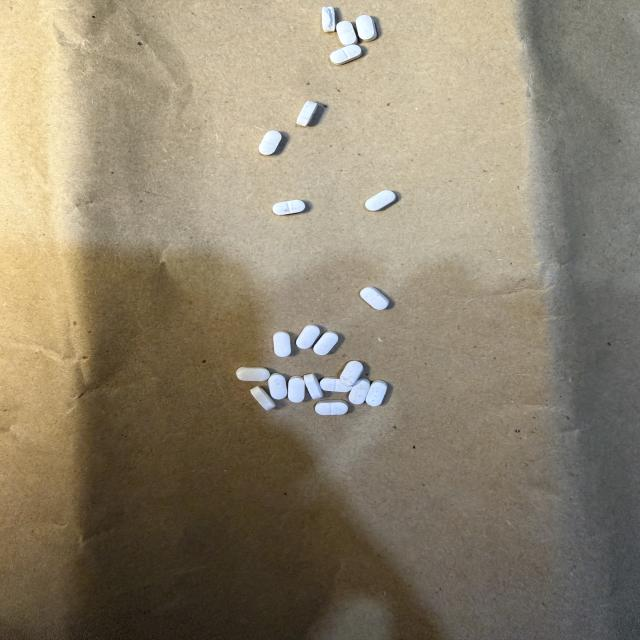pill: (329, 44, 362, 65), (360, 287, 389, 310), (365, 190, 396, 211), (340, 361, 363, 387), (296, 325, 320, 349), (251, 387, 275, 410), (314, 332, 338, 355), (356, 15, 377, 41), (259, 131, 281, 155), (366, 381, 387, 406), (349, 379, 370, 404), (336, 21, 357, 45), (297, 101, 317, 126), (303, 374, 323, 399), (315, 400, 348, 415), (268, 373, 287, 399), (273, 200, 305, 215), (320, 377, 351, 392), (273, 332, 291, 357), (237, 367, 269, 381), (288, 376, 305, 402), (322, 7, 335, 32)
